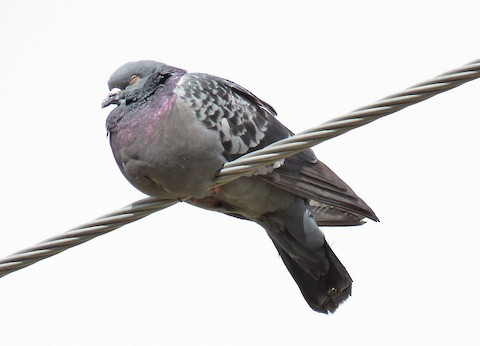pigeon: (94, 56, 381, 317)
